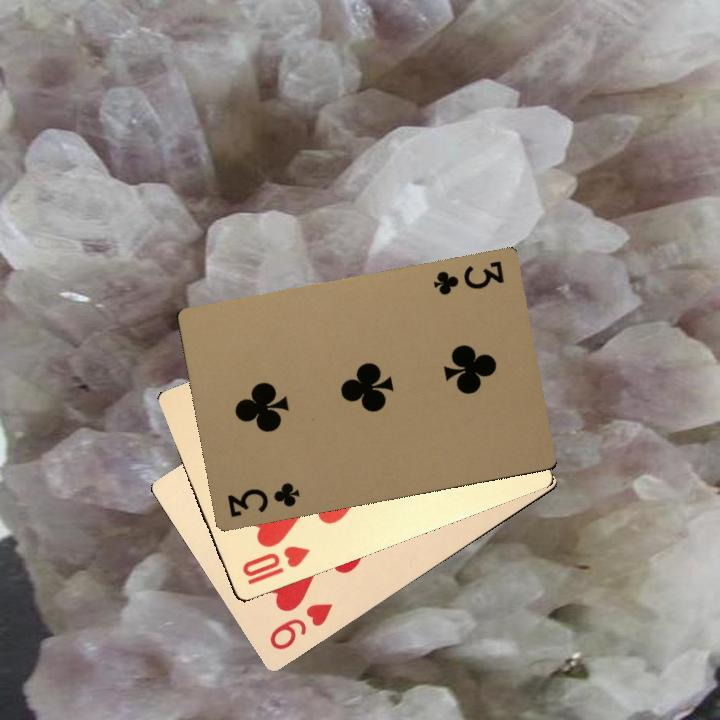10h: (238, 541, 313, 588)
3c: (223, 478, 302, 520), (429, 257, 507, 298)
9h: (265, 599, 335, 653)
